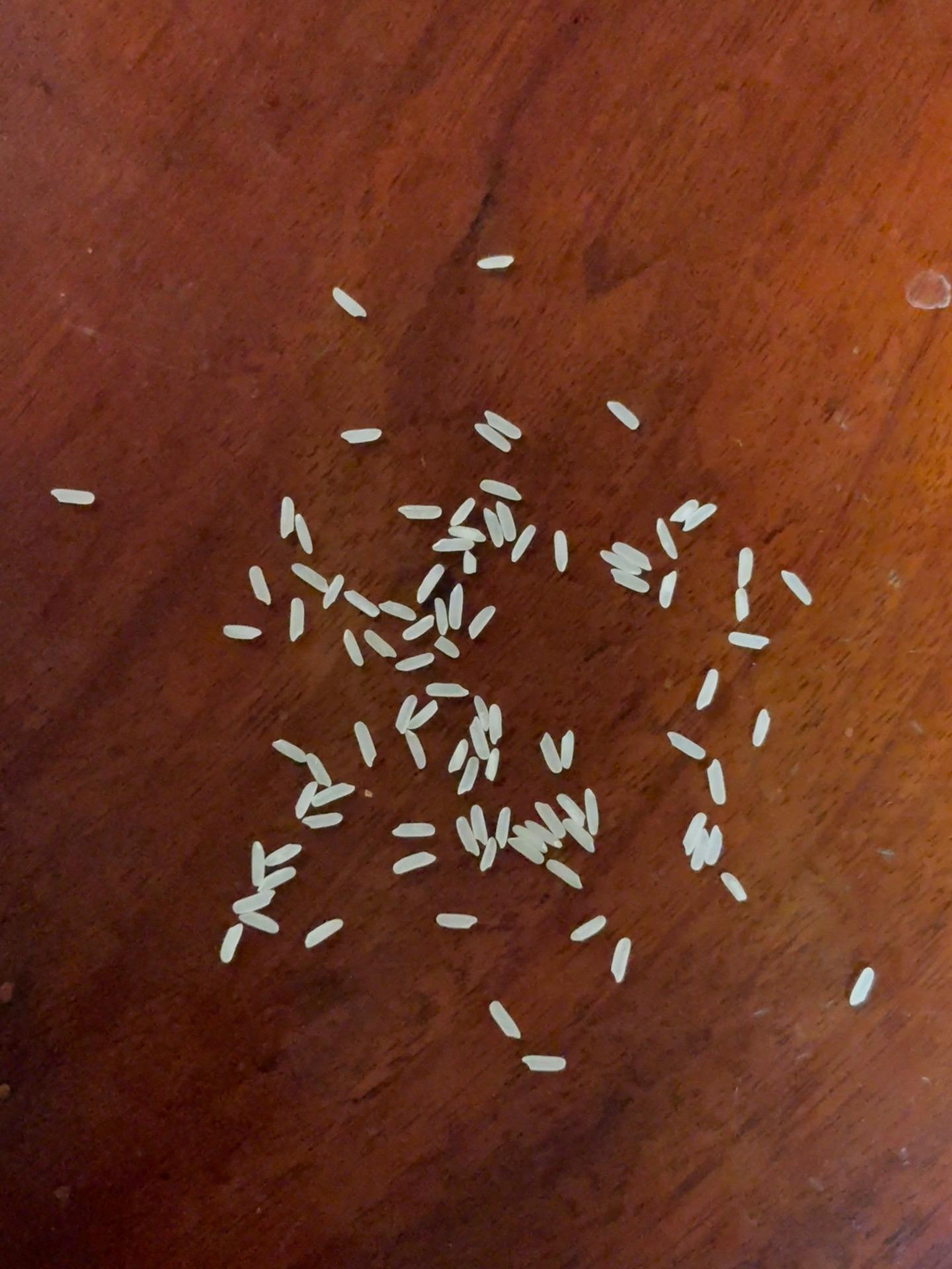Rice-th-y-nh: (441, 584, 471, 630), (488, 1000, 522, 1040), (612, 540, 653, 571), (546, 858, 584, 891), (534, 801, 566, 840), (579, 788, 605, 836), (416, 563, 446, 604), (562, 818, 597, 853), (310, 781, 355, 808), (304, 918, 343, 949), (291, 562, 329, 593), (507, 834, 545, 865), (523, 819, 562, 849), (232, 889, 275, 916), (257, 865, 297, 894), (780, 570, 813, 605), (704, 759, 729, 805), (218, 922, 246, 963), (466, 716, 492, 760), (484, 410, 522, 440), (667, 731, 706, 760), (353, 721, 378, 766), (599, 549, 642, 575), (474, 422, 511, 452), (537, 733, 564, 774), (466, 804, 492, 846), (682, 501, 717, 532), (556, 792, 587, 827), (610, 567, 650, 594), (455, 756, 482, 796), (454, 816, 481, 856), (343, 589, 380, 618), (239, 909, 280, 935), (246, 841, 269, 887), (510, 524, 537, 563), (466, 605, 496, 640), (332, 288, 367, 318), (480, 477, 522, 502), (481, 507, 506, 549), (285, 597, 308, 642), (393, 851, 436, 875), (682, 812, 707, 853), (695, 669, 720, 710), (393, 694, 418, 735), (494, 501, 519, 542), (407, 700, 439, 732), (363, 629, 397, 659), (512, 824, 547, 853), (849, 967, 875, 1006), (610, 938, 633, 982), (304, 752, 332, 788), (654, 519, 679, 559), (570, 915, 607, 942), (607, 400, 640, 430), (491, 807, 515, 848), (428, 597, 453, 636), (248, 565, 272, 605), (484, 704, 508, 743), (556, 730, 580, 769), (404, 729, 427, 769), (656, 570, 680, 608), (277, 496, 298, 539), (402, 614, 435, 641), (265, 843, 302, 867), (294, 781, 318, 818), (728, 630, 770, 651), (424, 680, 468, 700), (431, 535, 475, 555), (272, 738, 307, 763), (342, 629, 365, 667), (379, 599, 417, 622), (750, 709, 773, 747), (720, 871, 748, 902), (52, 486, 95, 506), (446, 739, 470, 774), (735, 548, 756, 588), (551, 530, 571, 572), (703, 827, 725, 865), (449, 497, 476, 527), (522, 1054, 567, 1072), (322, 574, 345, 609), (294, 514, 314, 554), (448, 523, 486, 544), (689, 833, 710, 871), (395, 652, 434, 672), (472, 695, 493, 731), (669, 499, 700, 523), (302, 812, 343, 830), (436, 912, 477, 930), (479, 836, 499, 872), (398, 504, 443, 520), (393, 821, 435, 838), (433, 635, 460, 659), (222, 624, 262, 640), (484, 747, 502, 781), (342, 428, 382, 443), (734, 588, 751, 621), (477, 255, 514, 269), (461, 550, 479, 575)
